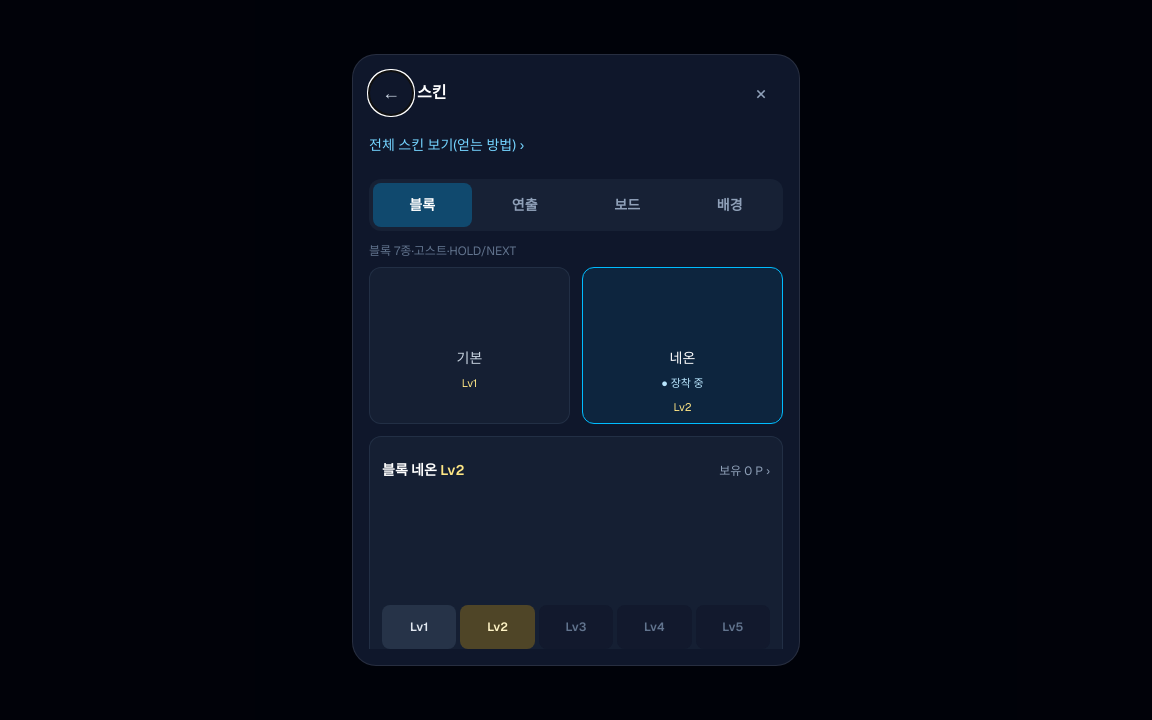
Test case: 스킨 강화 (skin-levels) — 설정 시트의 스킨 상세 › 레벨 미리보기 — Lv 칩을 누르면 그 레벨의 설명(지금 레벨 위는 "미리보기")
This screenshot has width=1152, height=720.
Click the button "Lv5" at (733, 627), box [696,605,770,649]
(page scrolled)
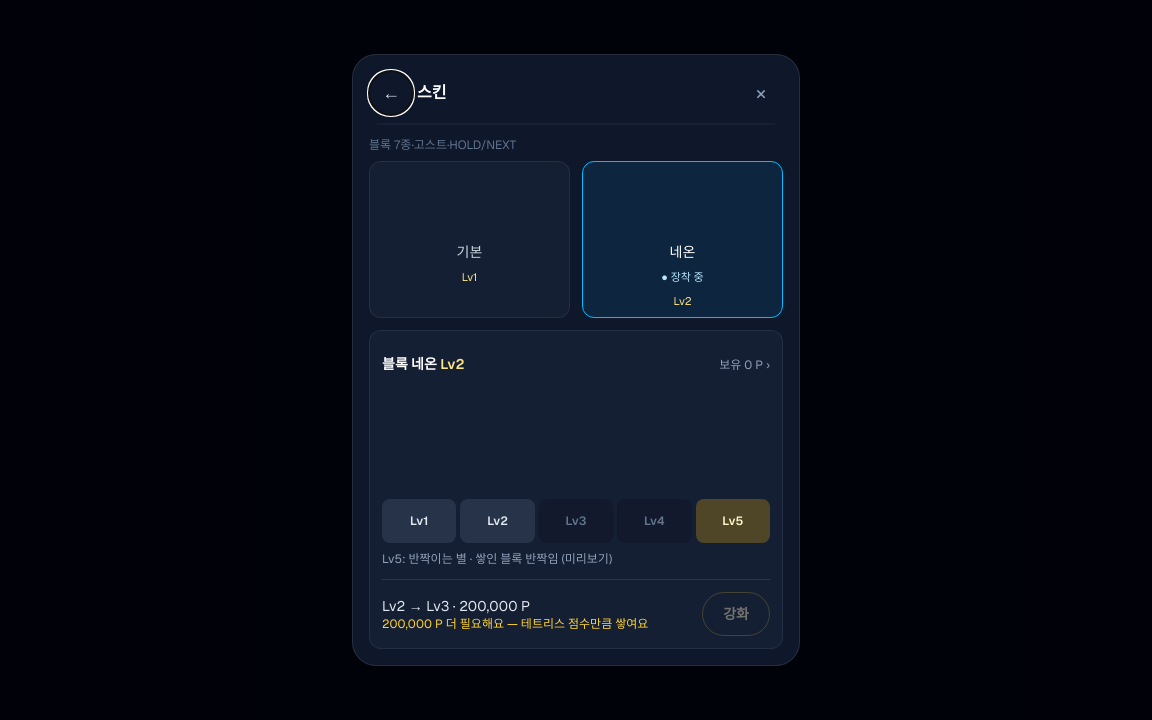
Check: the element with test id "skin-upgrade-block-neon" shows "Lv5: 반짝이는 별 · 쌓인 블록 반짝임 (미리보기)", box [369,330,783,649]
